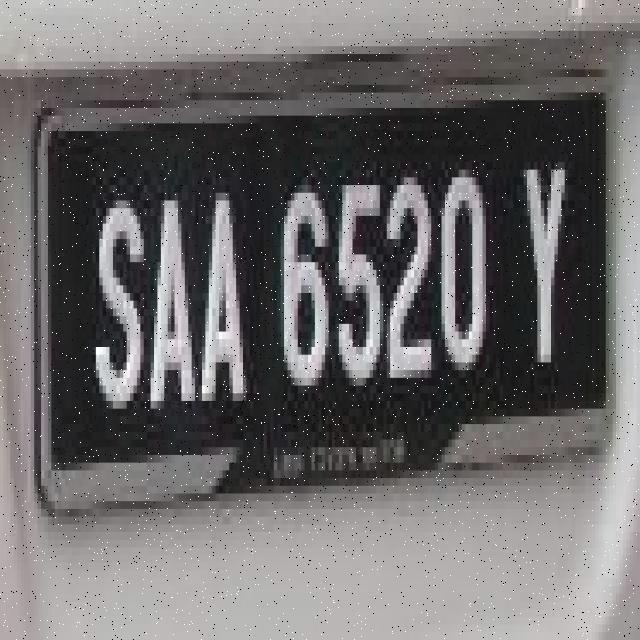License Plate: (38, 108, 610, 456)
